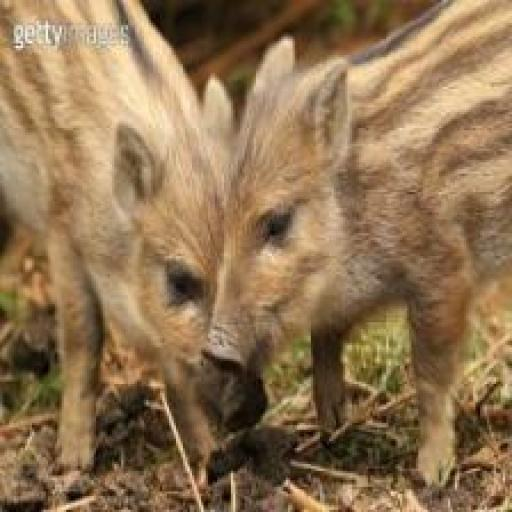Pig: (201, 0, 511, 509), (0, 0, 273, 491)
